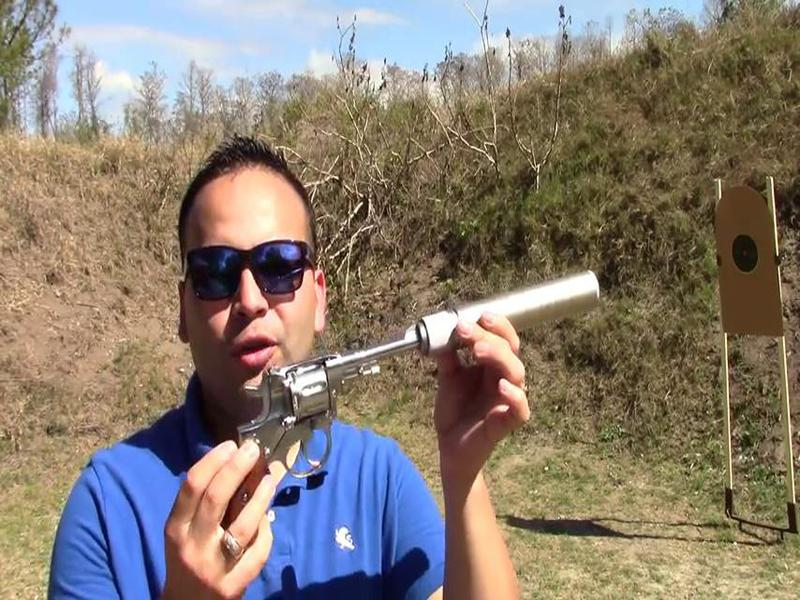Revolver: (210, 310, 454, 549)
